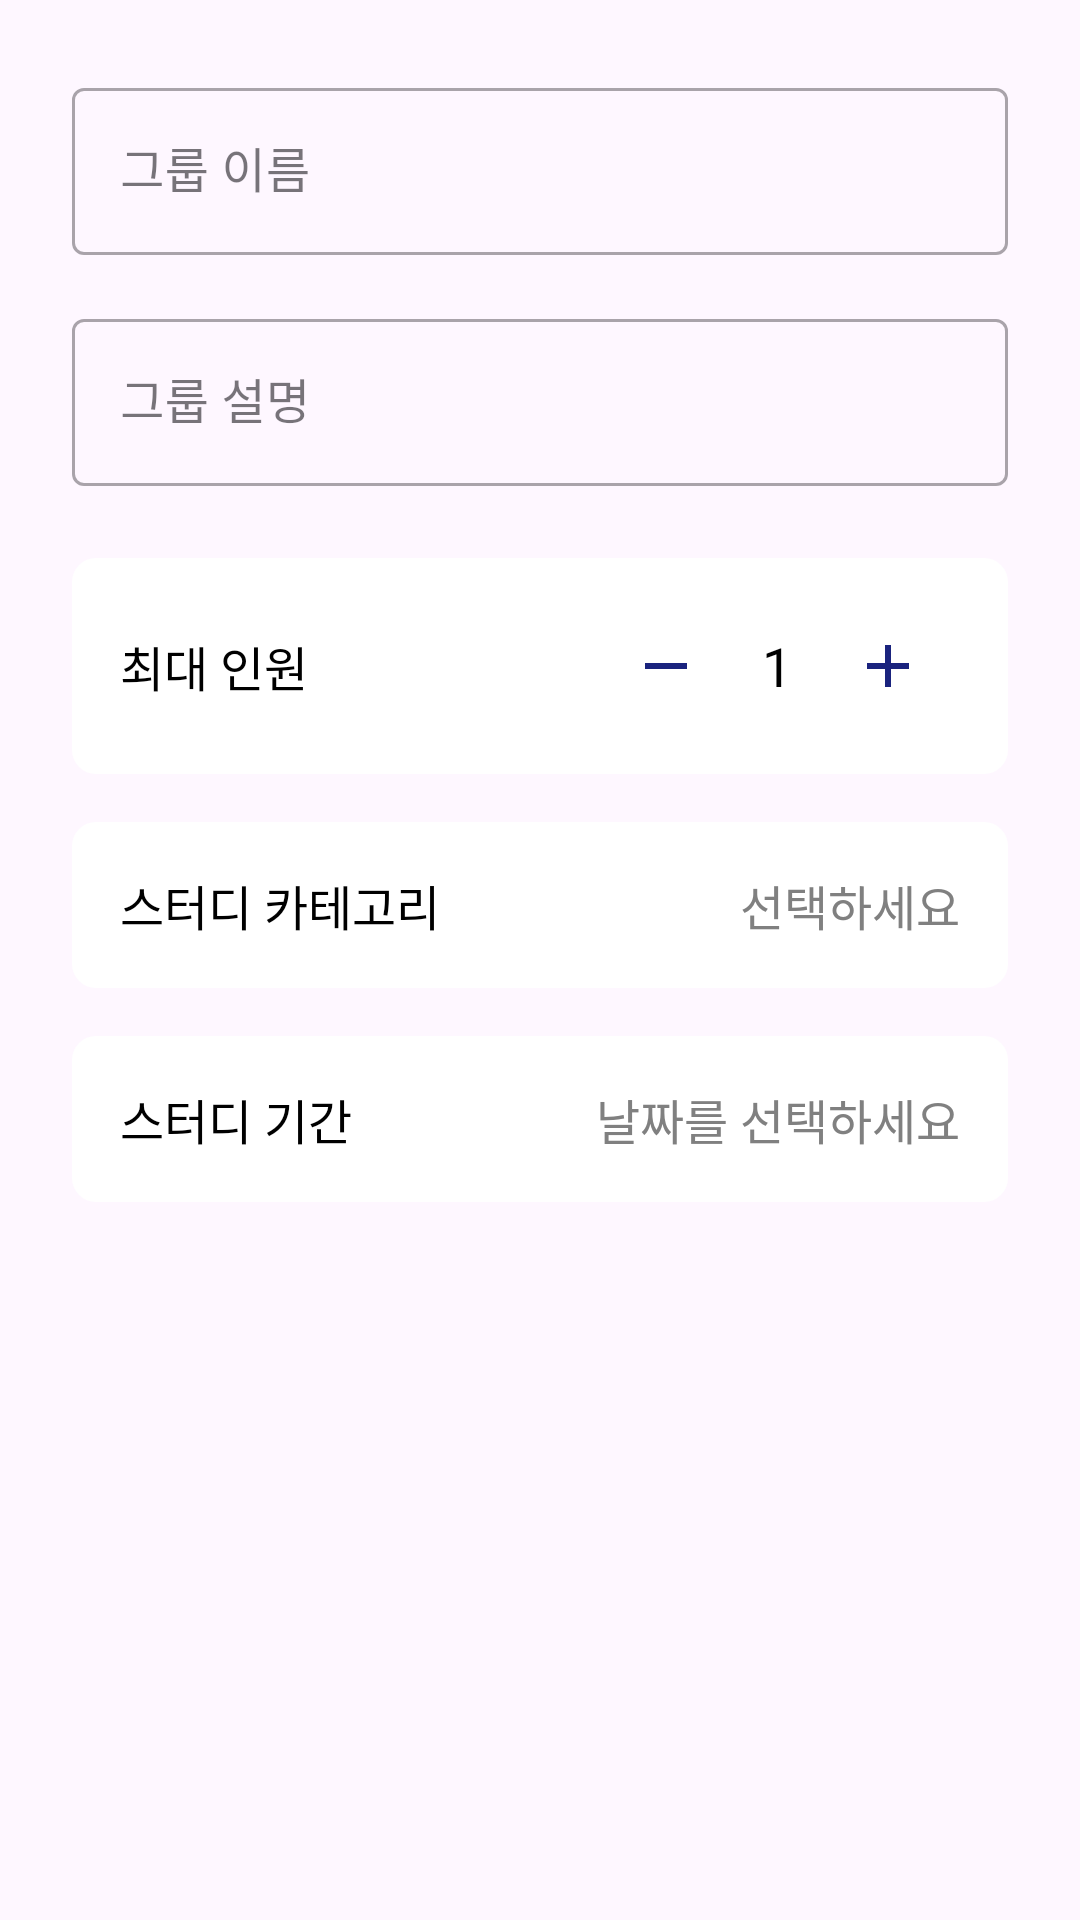

Icons on this 1080px x 1920px Android screen, each with its box as (x1, y1, x2, y2):
인원 증가: (867, 645, 909, 687)
